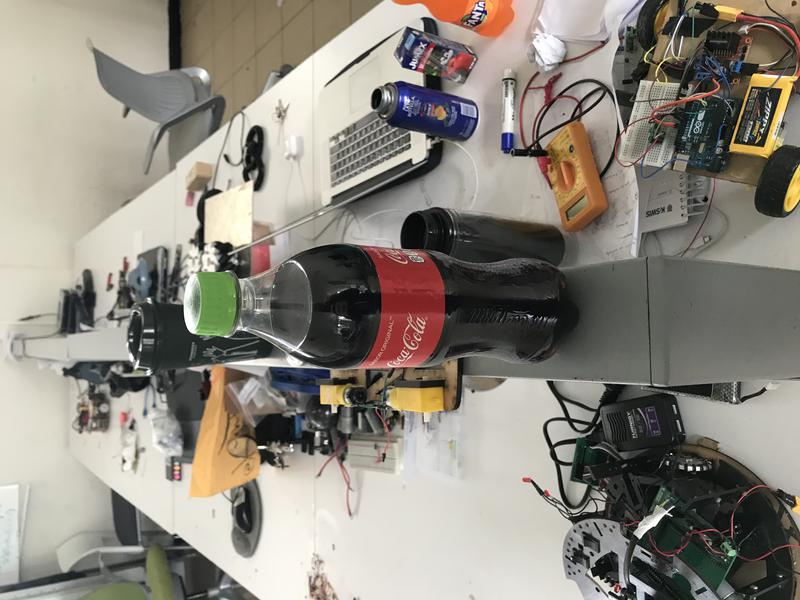coca_cola: (184, 244, 578, 370)
